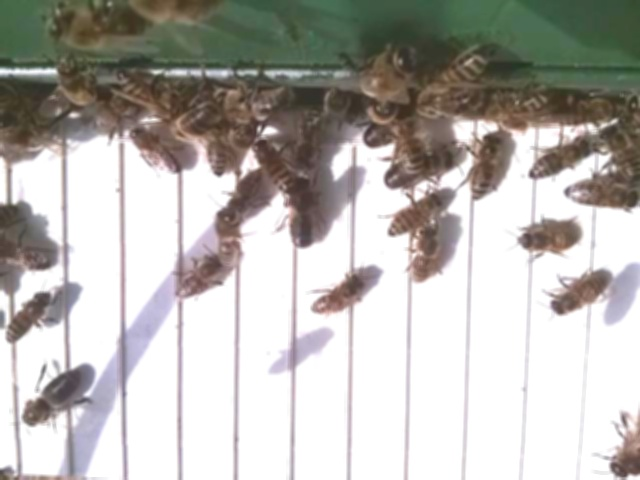Drone: (15, 365, 85, 433), (380, 150, 458, 195), (284, 173, 318, 253)
Worker: (548, 268, 610, 321), (2, 288, 52, 349), (524, 140, 588, 185), (467, 129, 504, 205), (130, 126, 183, 178), (382, 192, 440, 239), (560, 180, 640, 214), (513, 219, 579, 258), (308, 275, 365, 320), (250, 140, 294, 196), (408, 226, 442, 290), (173, 260, 220, 305), (210, 206, 242, 269)
